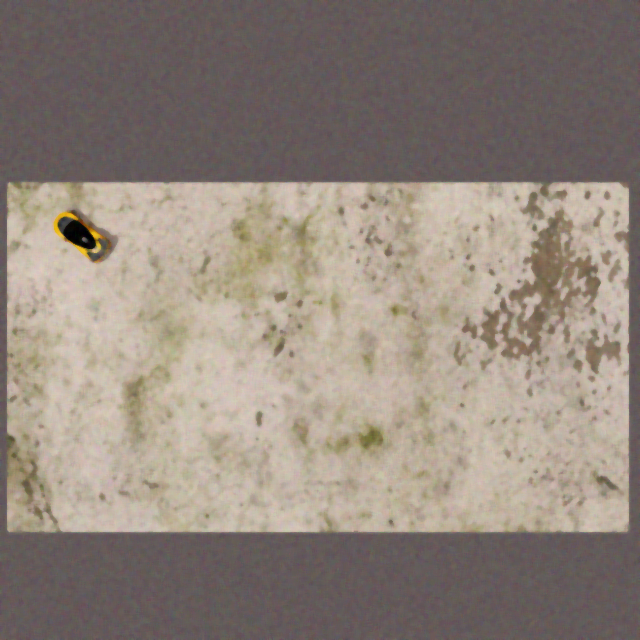car: (42, 202, 118, 268)
